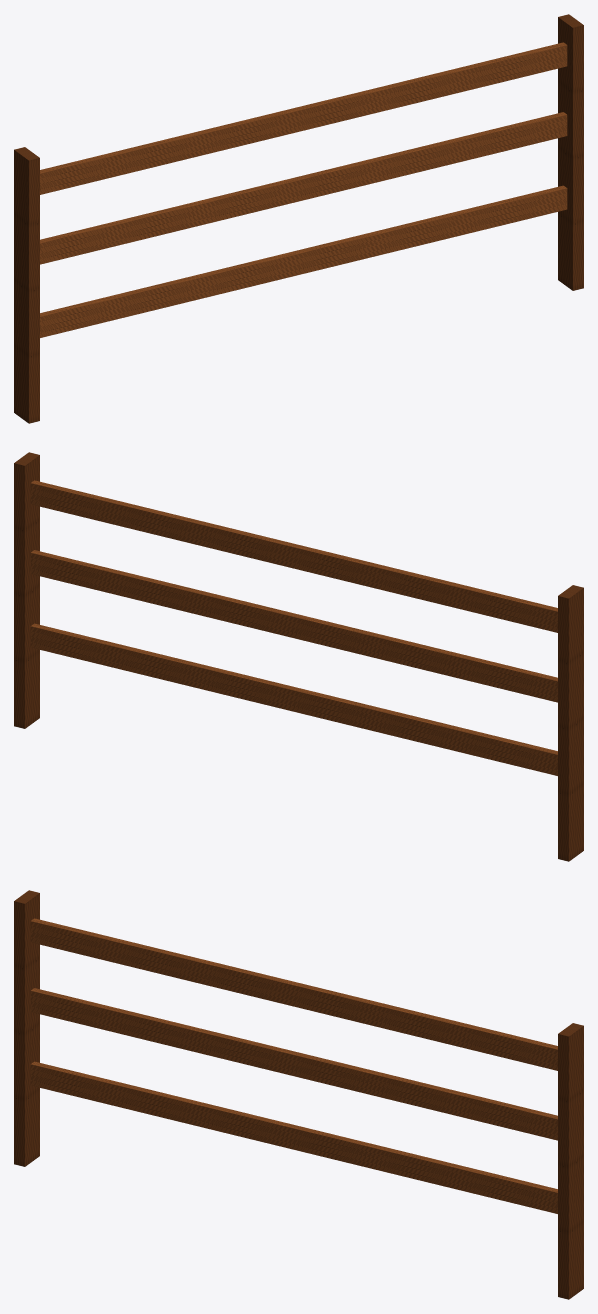
The model's file is farm-and-working-animals-hd-fence-straight-abfd7b2a.glb.
3 renders of one model, top to bottom at view 1: azimuth 30°, elevation 25°; view 2: azimuth 150°, elevation 25°; view 3: azimuth 330°, elevation 25°, orthographic.
Parts seen in each view (by area): view 1: fence-straight; view 2: fence-straight; view 3: fence-straight.
Boxes of the visible parts, box(x1,y1,x2,y2) form: fence-straight: box(14, 14, 583, 423); fence-straight: box(14, 452, 583, 861); fence-straight: box(14, 890, 583, 1299).
Bounding box in the file's own units: 3 × 1.36 × 0.14.
2 materials, 2 textured.
